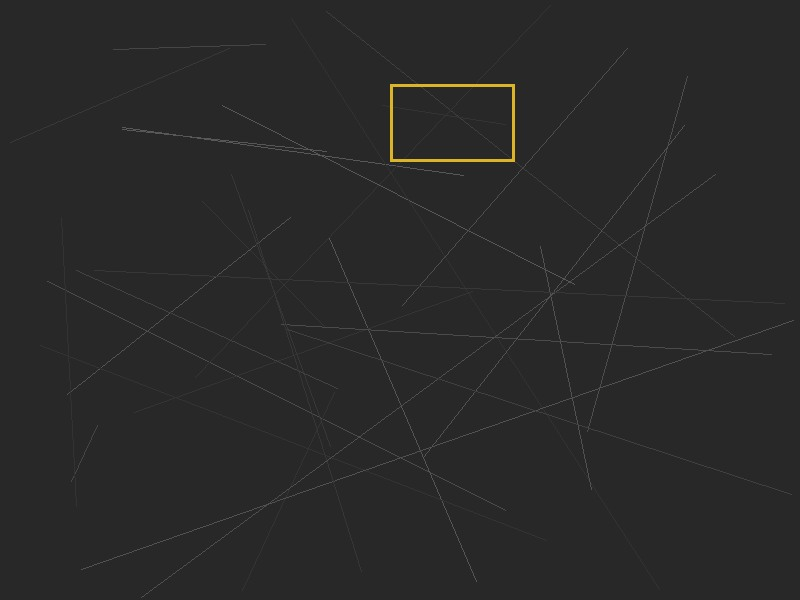D00: (390, 84, 514, 161)
